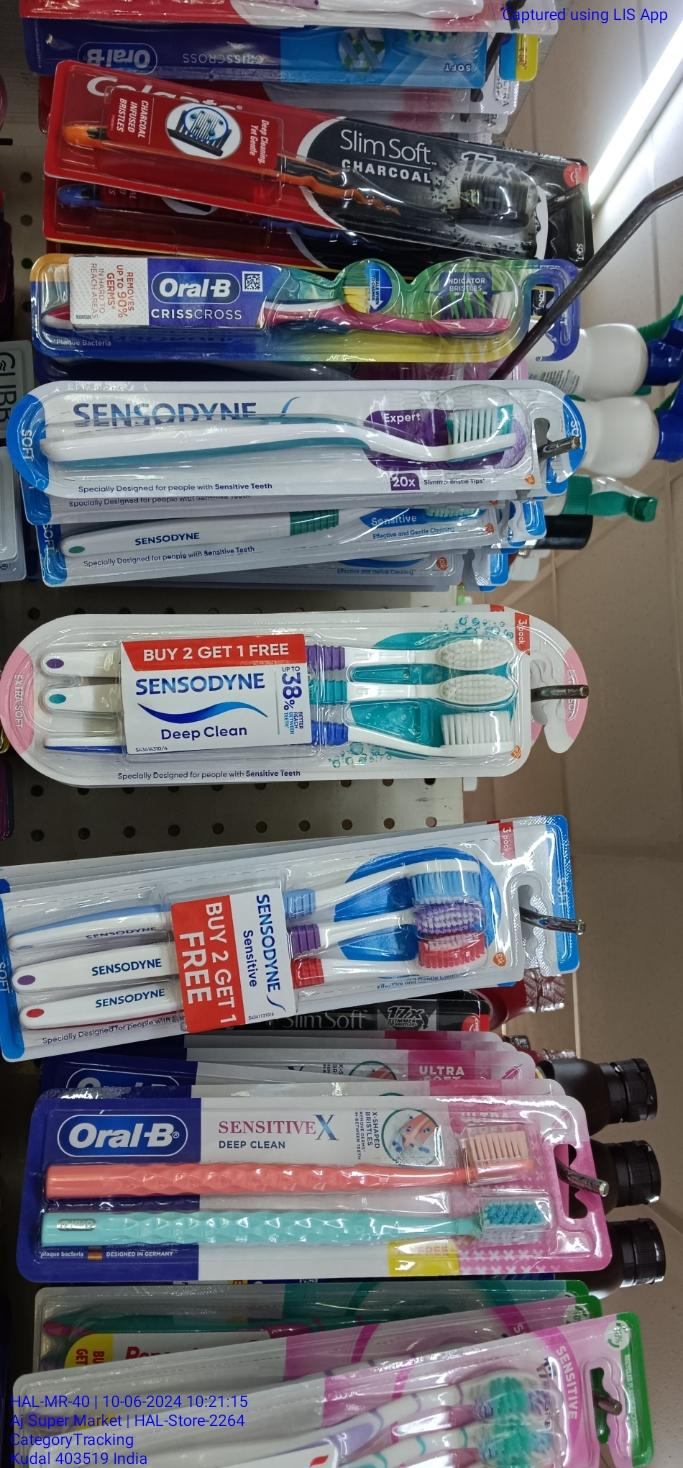15: (393, 234, 475, 1468)
5: (282, 200, 364, 1466)
9: (117, 211, 173, 1397)
soap: (36, 196, 100, 1369)
